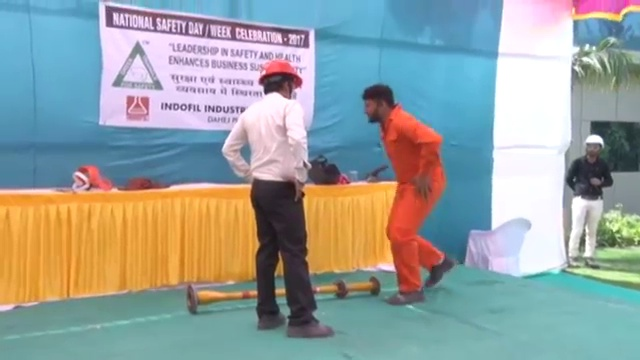helmet: (257, 57, 303, 88), (583, 133, 605, 150)
helmet_off: (363, 83, 395, 126)
helmet_on: (255, 57, 304, 103), (583, 133, 606, 161)
person: (224, 57, 335, 339), (362, 82, 455, 306), (568, 133, 613, 269)
